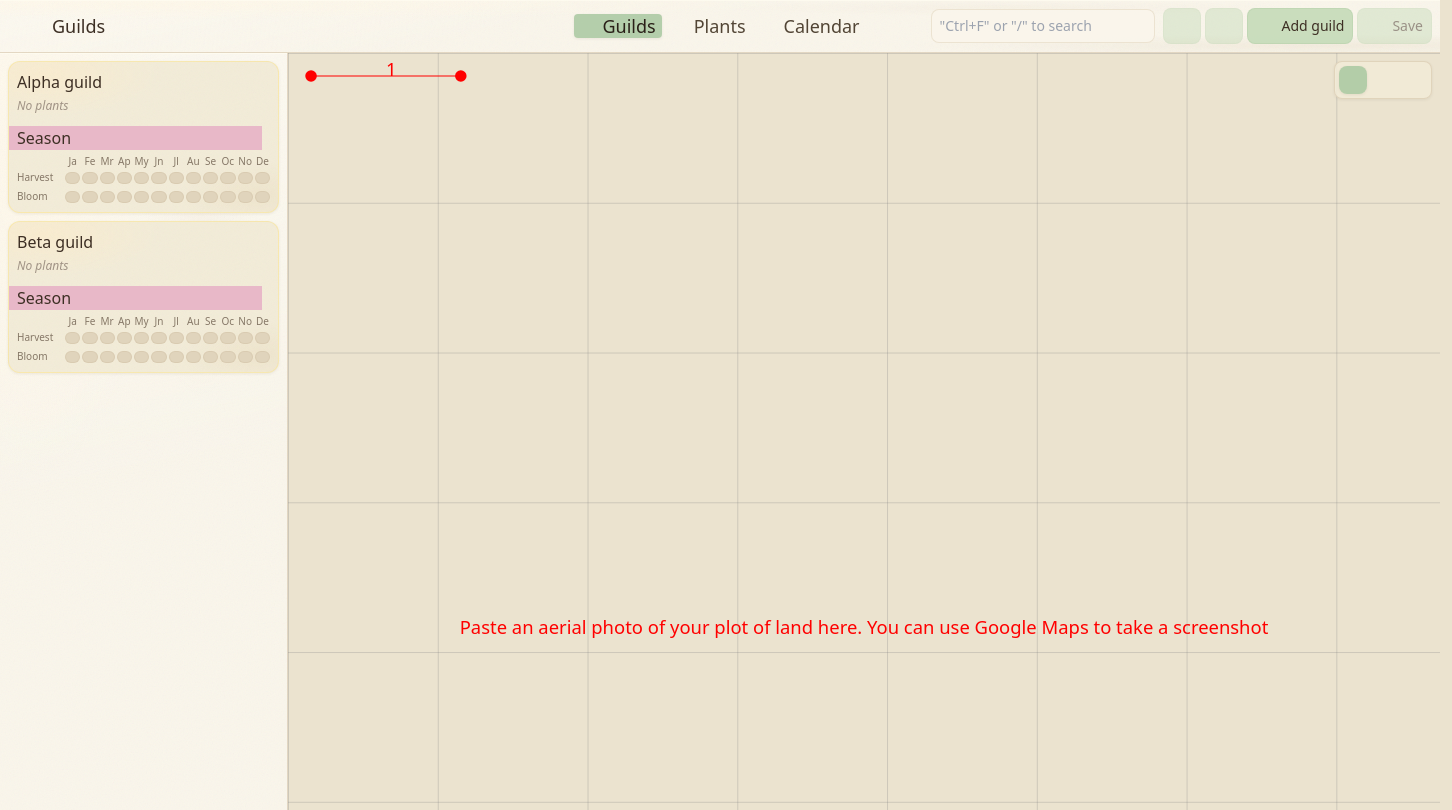
Test: filters guilds by search query
Type "Beta" into the search field named "Search guilds" at (1042, 26), box x1=930 y1=9 x2=1154 y2=43
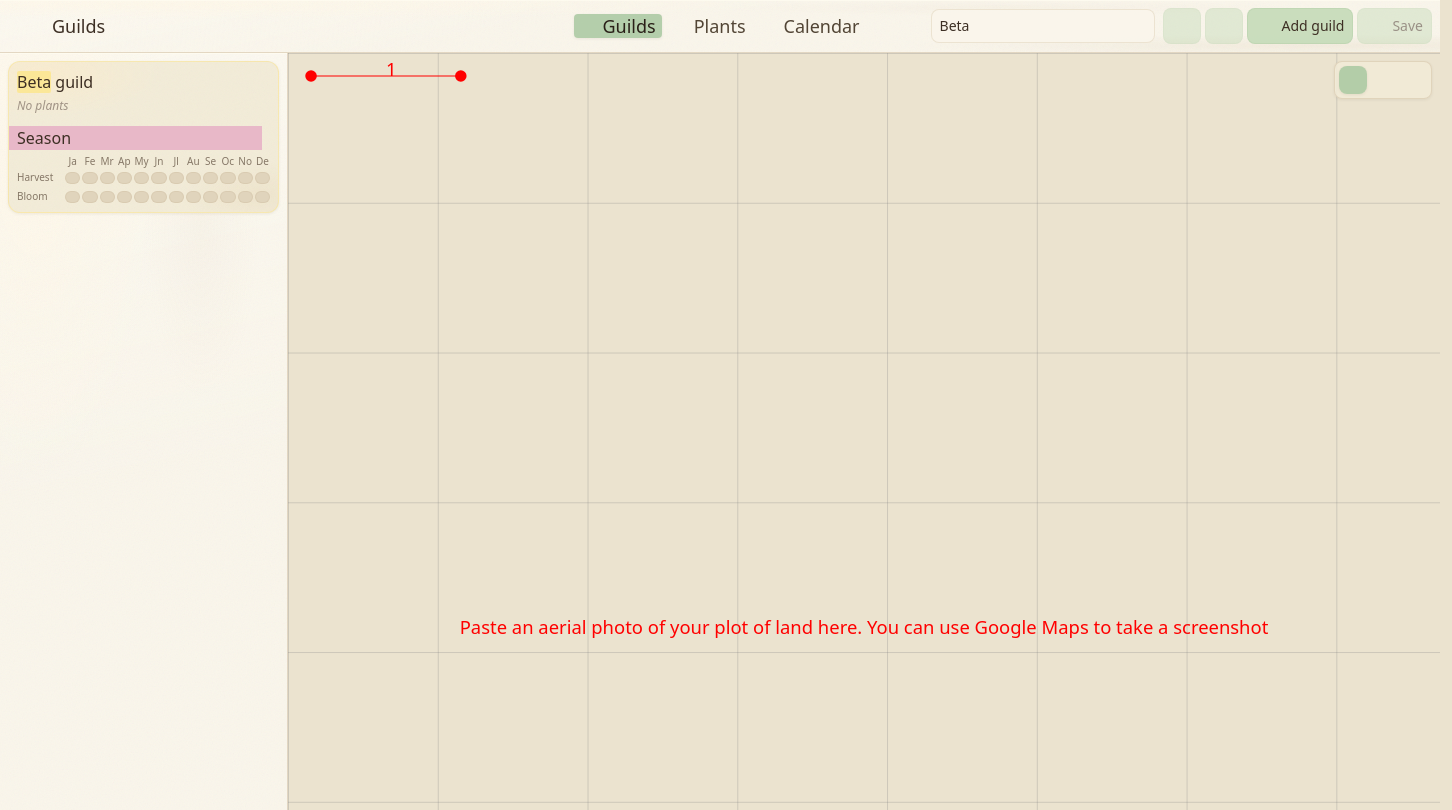
Check: the element "Beta guild" is shown, box x1=8 y1=61 x2=279 y2=213
Check: the text "Alpha guild" is gone
